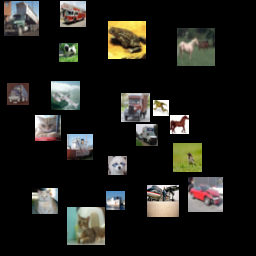airplane: (194, 108, 229, 143), (15, 106, 34, 125)
automobile: (164, 17, 199, 52), (52, 101, 87, 136), (43, 73, 69, 99)
bird: (202, 66, 240, 104), (113, 4, 142, 33), (91, 142, 113, 164)
cat: (4, 145, 42, 183), (67, 189, 99, 221), (170, 205, 189, 224)
frog: (152, 141, 190, 179), (8, 38, 24, 54)
ship: (213, 167, 235, 189), (53, 21, 75, 43), (27, 204, 46, 223)
